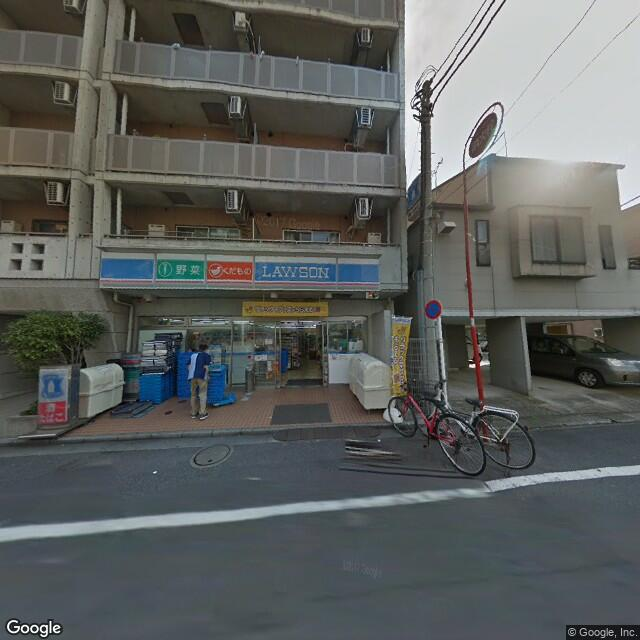lawson: (98, 246, 387, 297)
